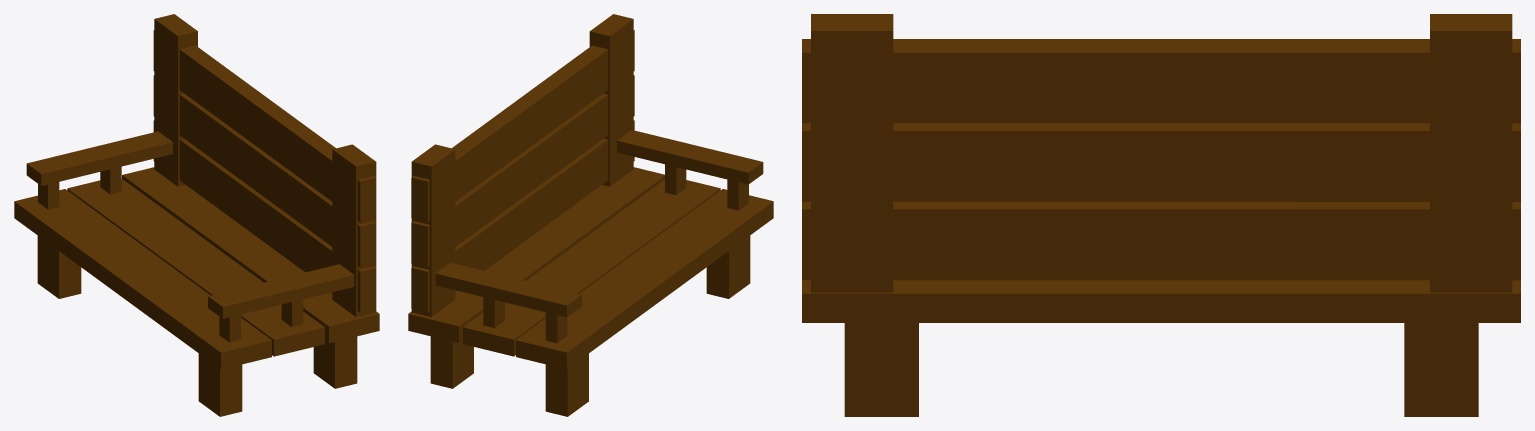
Rendered from Bench.fbx.
3 renders of one model, left to right at view 1: azimuth 30°, elevation 25°; view 2: azimuth 150°, elevation 25°; view 3: azimuth 270°, elevation 25°, orthographic. The views are drawn at different scales.
Visible parts, largest first — view 1: Bench; view 2: Bench; view 3: Bench.
Part boxes in pixels (left/top/right/bottom): Bench: left=14, top=14, right=379, bottom=416; Bench: left=408, top=14, right=773, bottom=416; Bench: left=802, top=14, right=1520, bottom=416.
Size of the model in its own units: 65.14 by 88.83 by 147.
